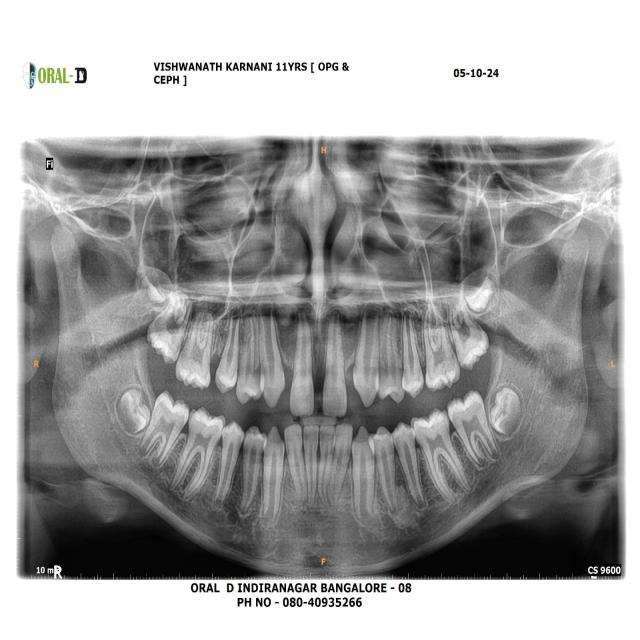Premolars: (392, 420, 427, 510), (370, 419, 398, 517)
